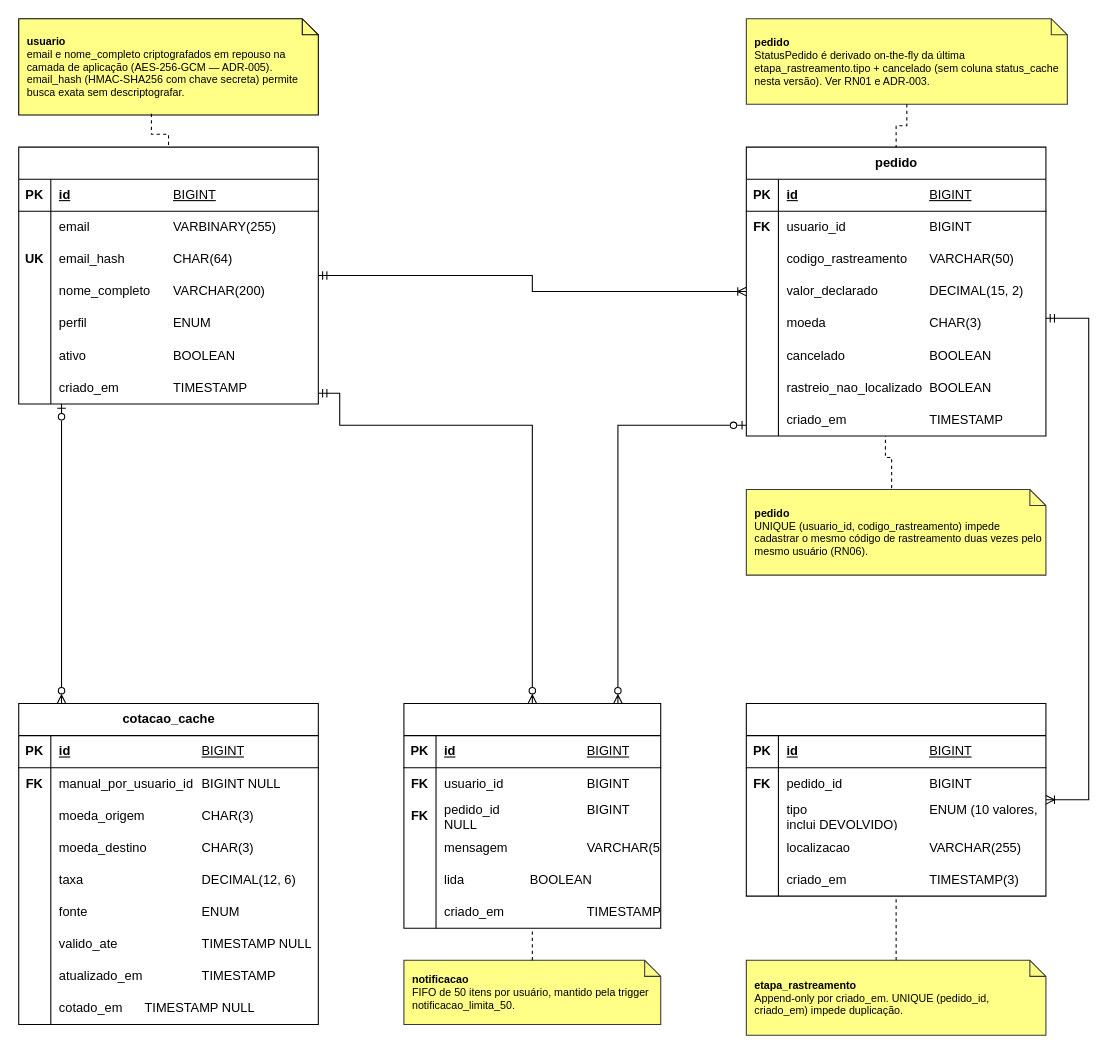
The diagram is 1117 pixels wide and 1054 high, and some of its shapes have lost their labels. The box of each missing label's shape, as (x1, y1, x2, y2) in pixels:
etapa_rastreamento: (745, 702, 1046, 896)
notificacao: (403, 702, 661, 928)
usuario: (18, 146, 318, 404)
